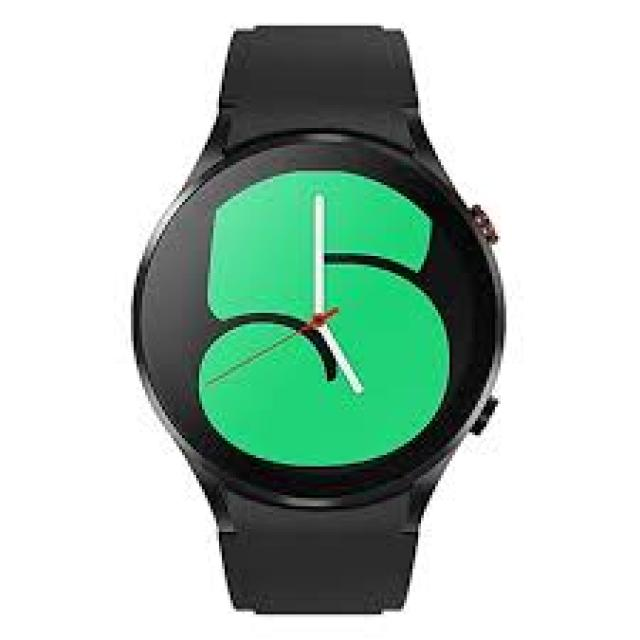objects: (137, 26, 503, 615)
